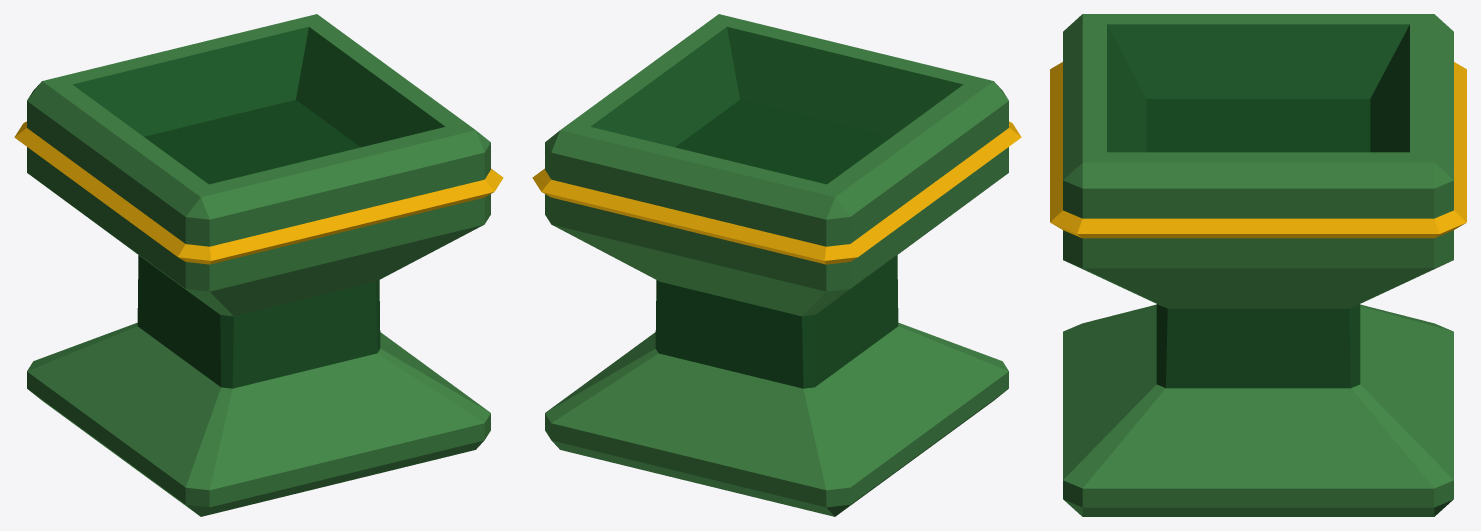
Rendered from m_dec_dung_fountainDry.fbx.
3 views of the same model, side by side, from view 1: azimuth 30°, elevation 25°; view 2: azimuth 150°, elevation 25°; view 3: azimuth 270°, elevation 25° (orthographic). The views are drawn at different scales.
Visible parts, largest first — view 1: m_dec_dung_fountainDry; view 2: m_dec_dung_fountainDry; view 3: m_dec_dung_fountainDry.
Part boxes in pixels (bbox=[...]): m_dec_dung_fountainDry: bbox=[14, 14, 503, 516]; m_dec_dung_fountainDry: bbox=[532, 14, 1021, 516]; m_dec_dung_fountainDry: bbox=[1050, 14, 1466, 516].
Size of the model in its own units: 2.13 by 2 by 2.13.
